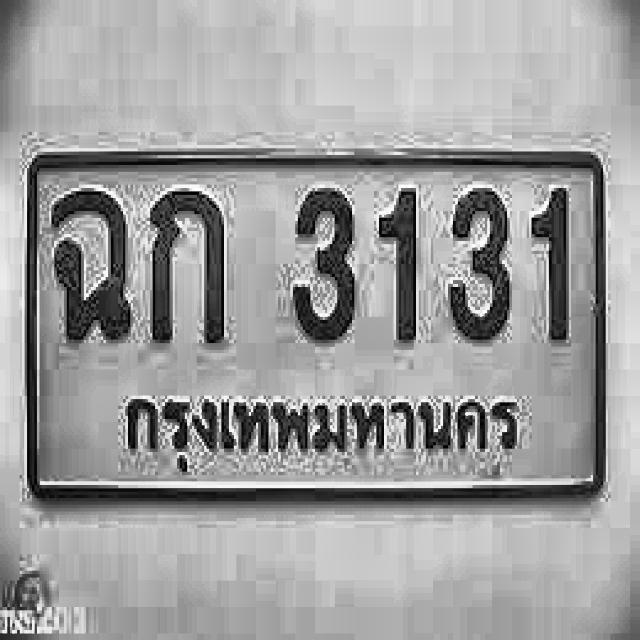license-plate: (23, 137, 617, 513)
